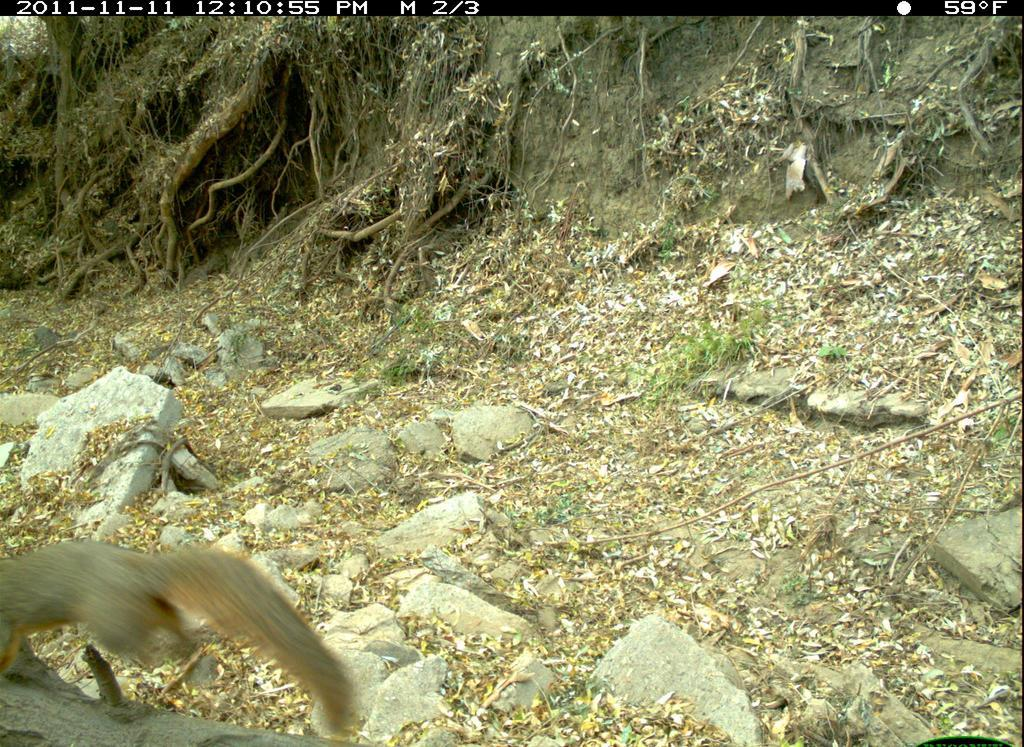squirrel: (1, 530, 359, 739)
